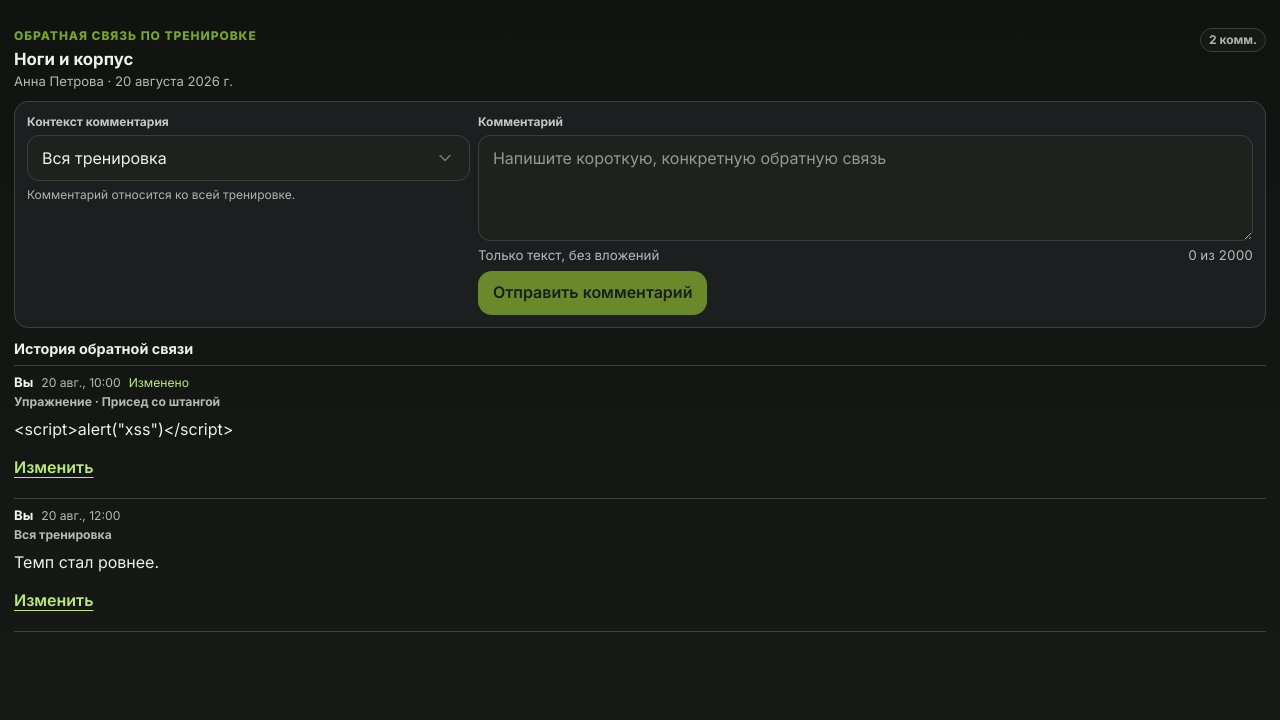
Scenario: WorkoutFeedback › редактирует существующий комментарий через поддерживаемый PATCH
The image size is (1280, 720).
Click the 1st button "Изменить" at (54,468), box [14,446,94,490]
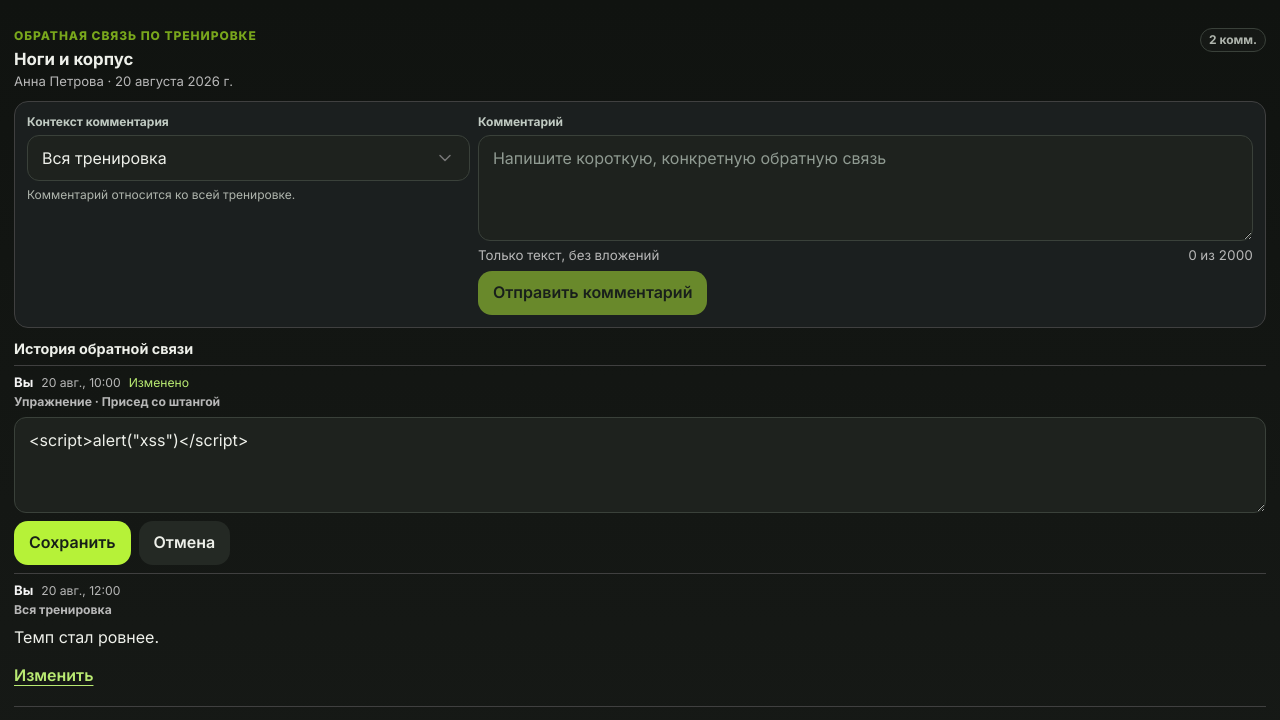
Replace the text in the text box named "Изменить комментарий" with "Колени двигаются увереннее." at (640,465), box [14,417,1266,513]
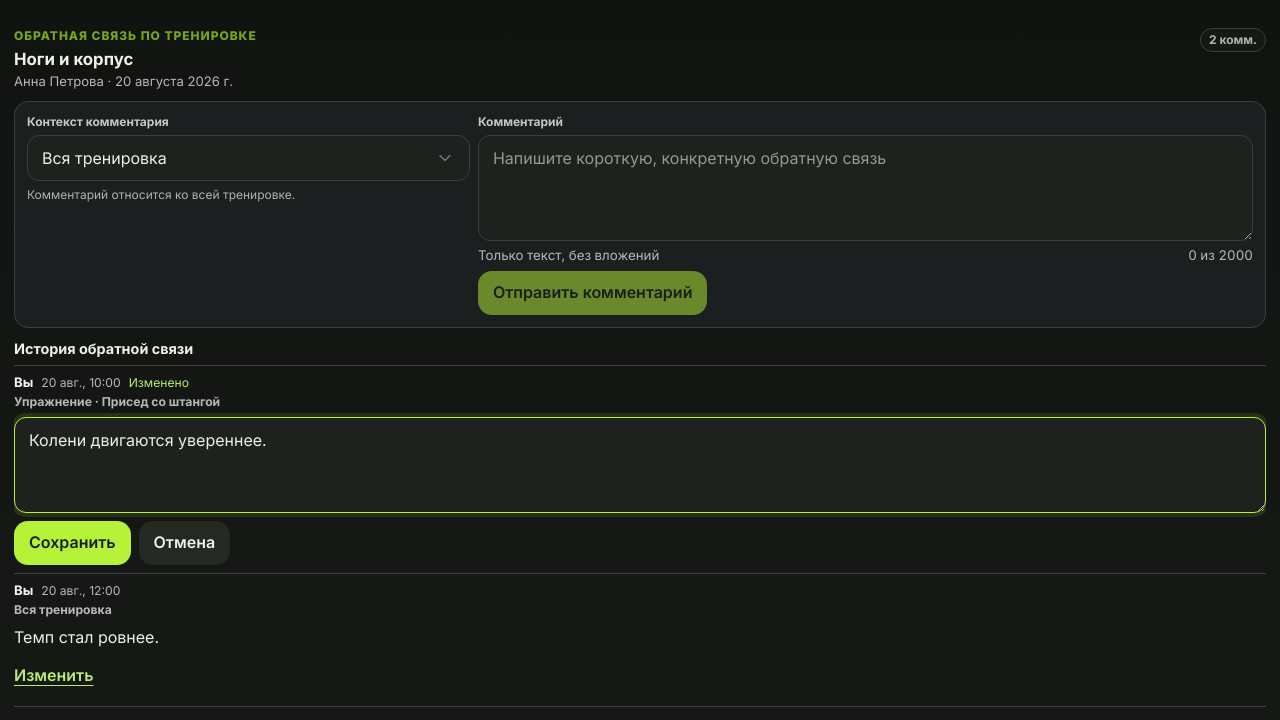
Click the button "Сохранить" at (72,543), box [14,521,130,565]
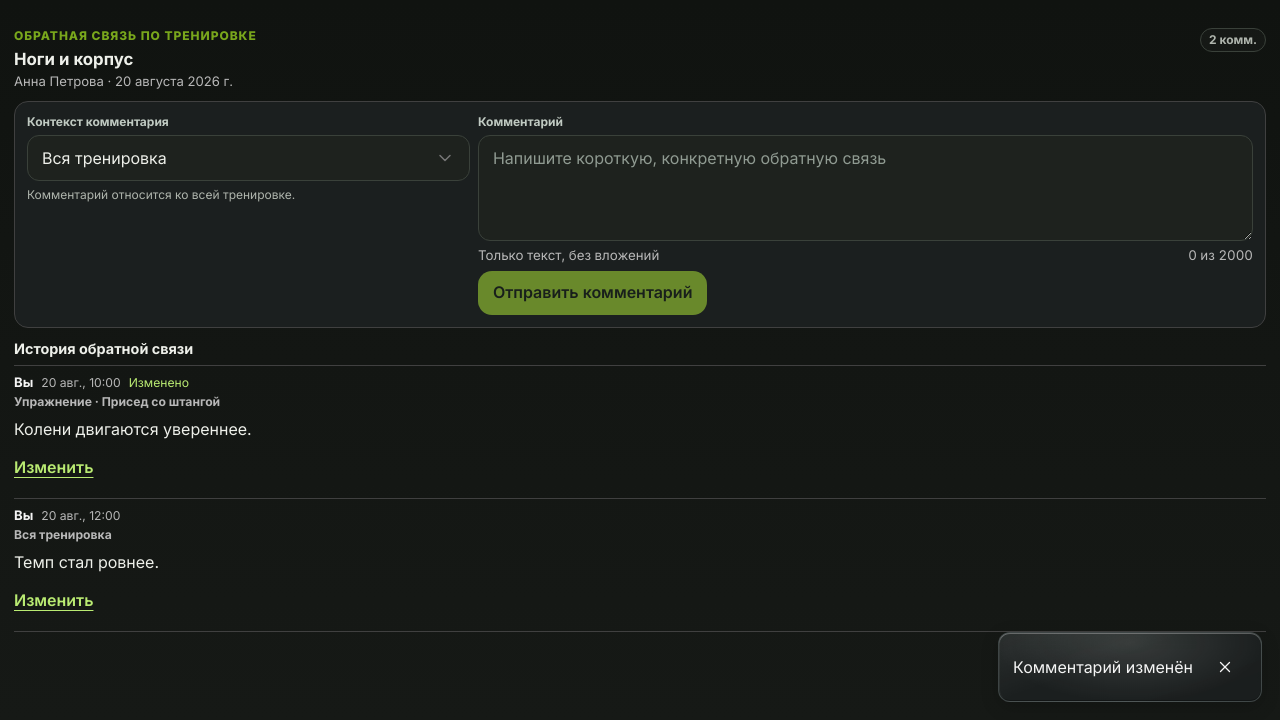
Expected: the text "Колени двигаются увереннее." is shown, [14,419,252,439]
